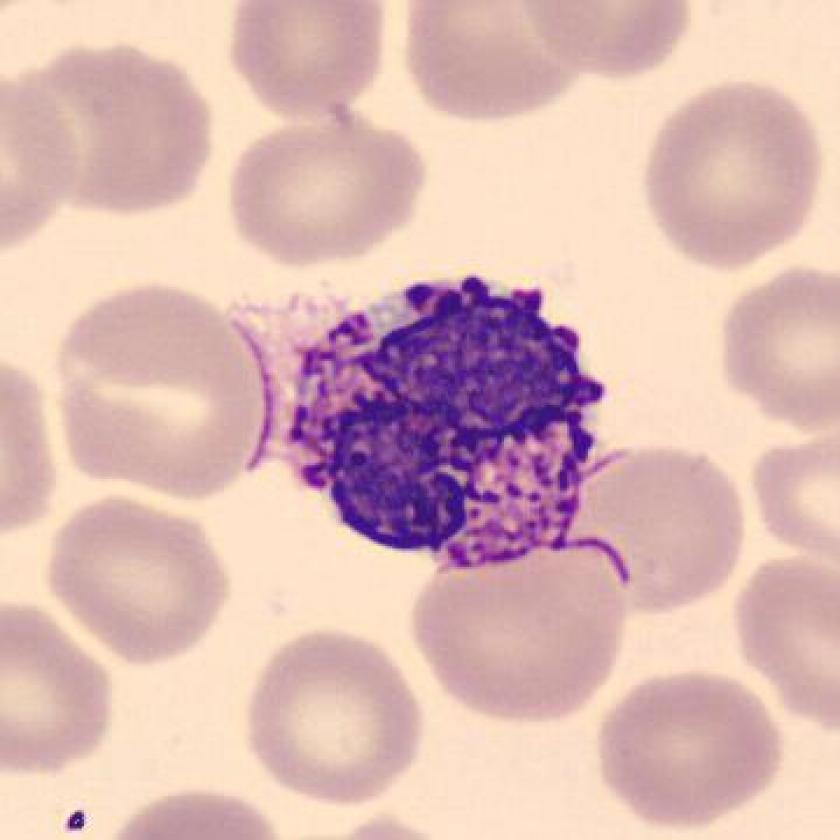basophil: (276, 258, 608, 572)
